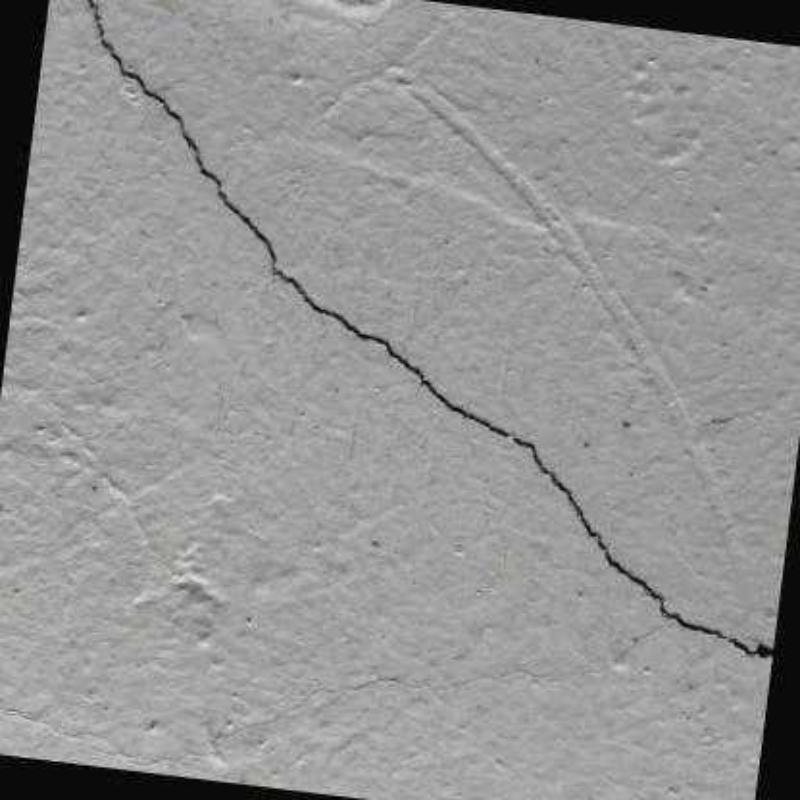pothole: (86, 0, 775, 658)
